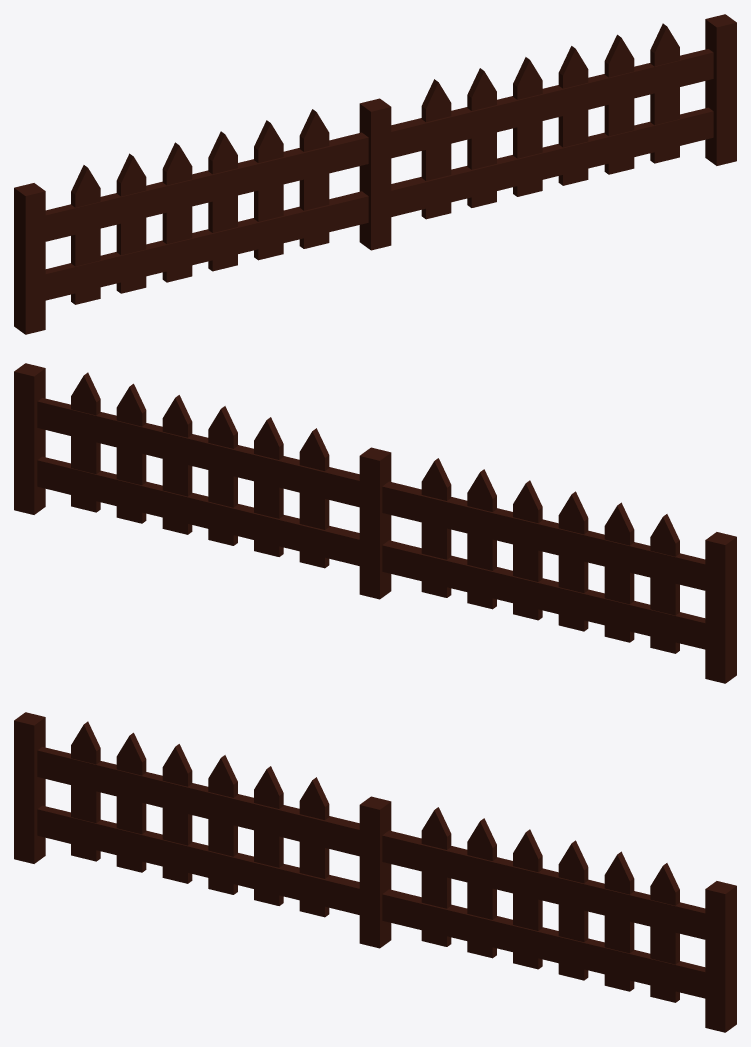
The model's file is Fence2.fbx.
3 renders of one model, top to bottom at view 1: azimuth 30°, elevation 25°; view 2: azimuth 150°, elevation 25°; view 3: azimuth 330°, elevation 25°, orthographic.
Parts seen in each view (by area): view 1: Fence2; view 2: Fence2; view 3: Fence2.
Part boxes in pixels (<box>): Fence2: <box>14,14,736,334</box>; Fence2: <box>14,363,736,683</box>; Fence2: <box>14,712,736,1032</box>.
Size of the model in its own units: 5.89 by 1.17 by 0.1655.
